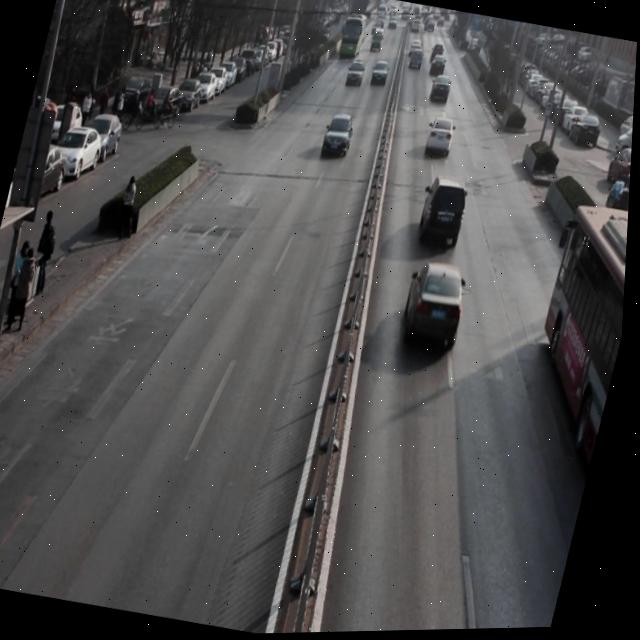car: (398, 261, 478, 359), (417, 174, 476, 253), (322, 114, 358, 164), (424, 117, 460, 163), (429, 76, 455, 108), (370, 62, 393, 90), (347, 62, 369, 89)
van: (517, 201, 631, 470)
